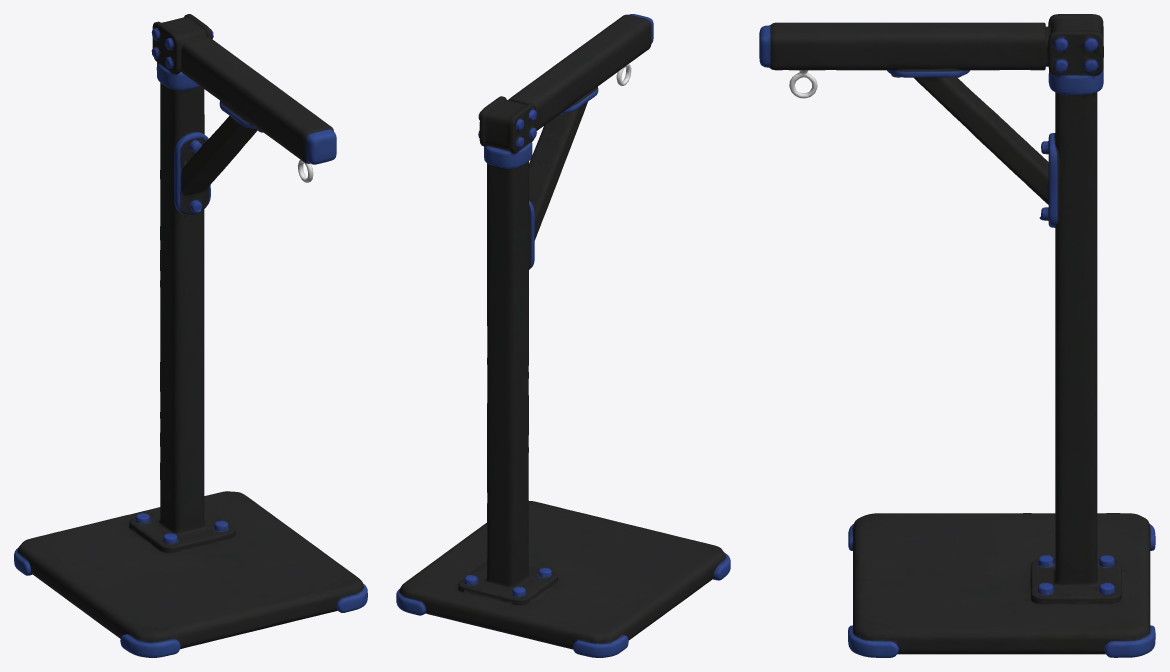
The model's file is 03-suporte.glb.
3 renders of one model, left to right at view 1: azimuth 30°, elevation 25°; view 2: azimuth 150°, elevation 25°; view 3: azimuth 270°, elevation 25°, orthographic. The views are drawn at different scales.
Visible parts, largest first — view 1: tripo_node_0e82105f-68c3-4dd4-ac4e-f03ac90befb2; view 2: tripo_node_0e82105f-68c3-4dd4-ac4e-f03ac90befb2; view 3: tripo_node_0e82105f-68c3-4dd4-ac4e-f03ac90befb2.
Boxes of the visible parts, x1,y1,x2,y2 form: tripo_node_0e82105f-68c3-4dd4-ac4e-f03ac90befb2: [14, 14, 367, 657]; tripo_node_0e82105f-68c3-4dd4-ac4e-f03ac90befb2: [396, 14, 730, 657]; tripo_node_0e82105f-68c3-4dd4-ac4e-f03ac90befb2: [759, 14, 1155, 657].
Bounding box in the file's own units: 0.466 × 1 × 0.612.
Materials: 1 (1 with a texture image).
